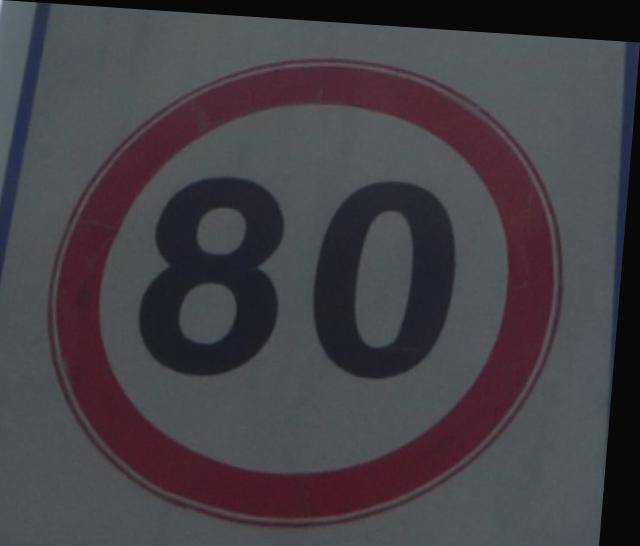limit80: (25, 29, 590, 546)
